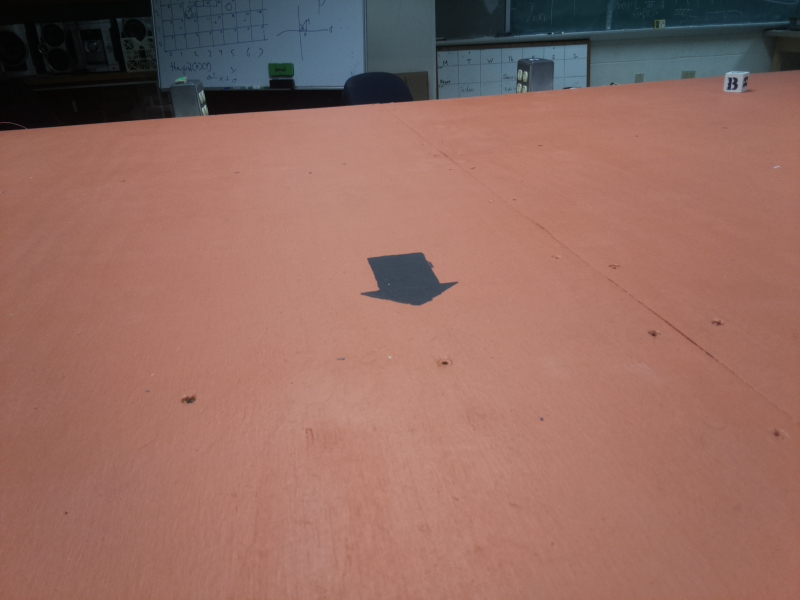blockB: (725, 71, 753, 94)
start: (357, 250, 462, 307)
